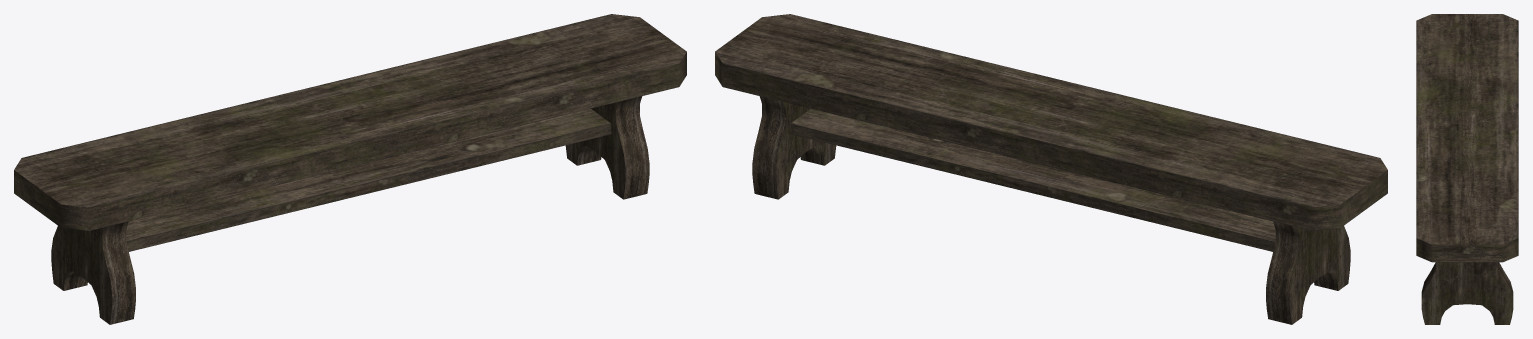
The model's file is wooden_Bench.fbx.
The picture shows the model from 3 angles, left to right: view 1: azimuth 30°, elevation 25°; view 2: azimuth 150°, elevation 25°; view 3: azimuth 270°, elevation 25°; orthographic projection. The views are drawn at different scales.
Visible parts, largest first — view 1: wooden_Bench; view 2: wooden_Bench; view 3: wooden_Bench.
Boxes of the visible parts, box(x1,y1,x2,y2) form: wooden_Bench: box(14, 14, 686, 324); wooden_Bench: box(715, 14, 1387, 324); wooden_Bench: box(1416, 14, 1518, 324).
Size of the model in its own units: 136 by 26.58 by 25.48.
